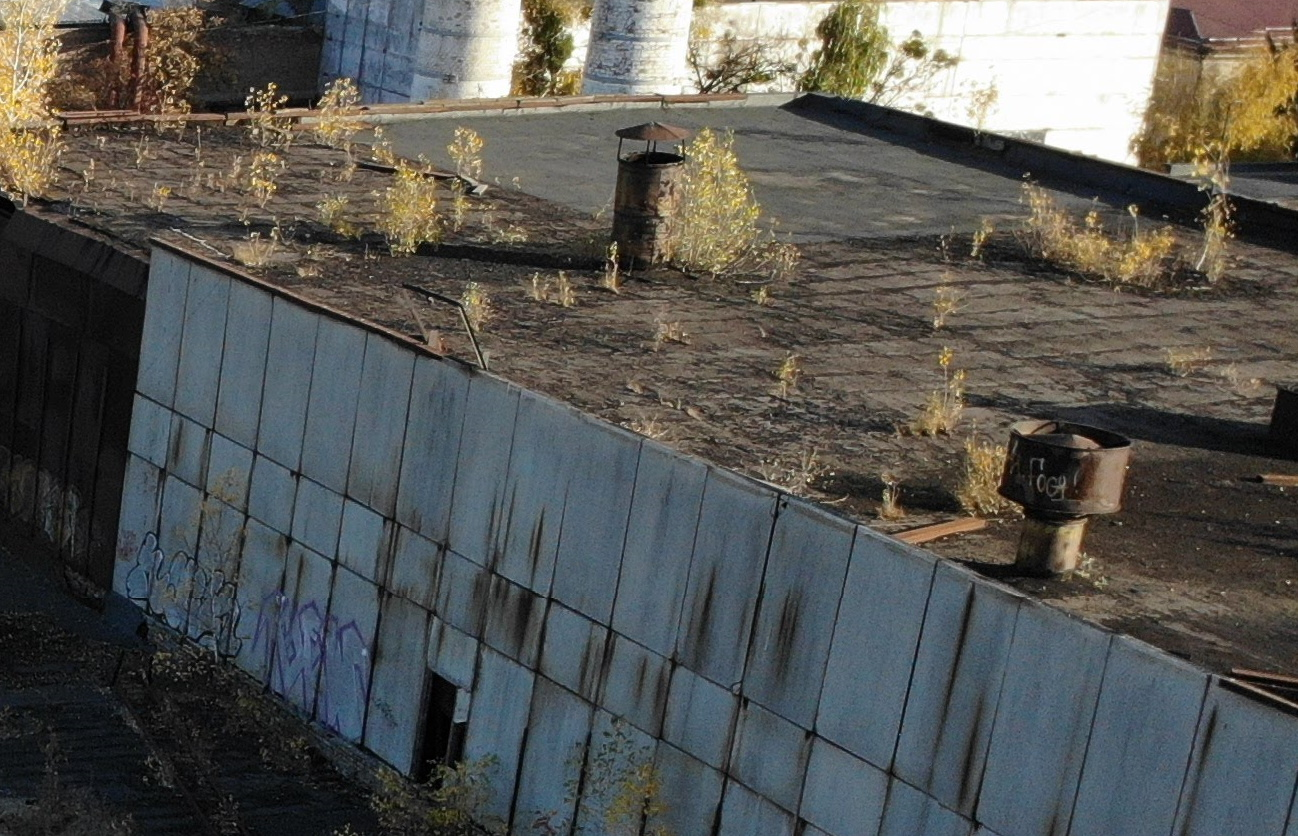tree: (151, 457, 278, 686), (653, 111, 787, 292), (1015, 180, 1158, 317), (8, 6, 79, 200), (1176, 158, 1250, 313), (309, 70, 391, 178), (206, 130, 298, 226), (377, 150, 443, 259), (910, 349, 980, 450), (236, 73, 307, 171)
